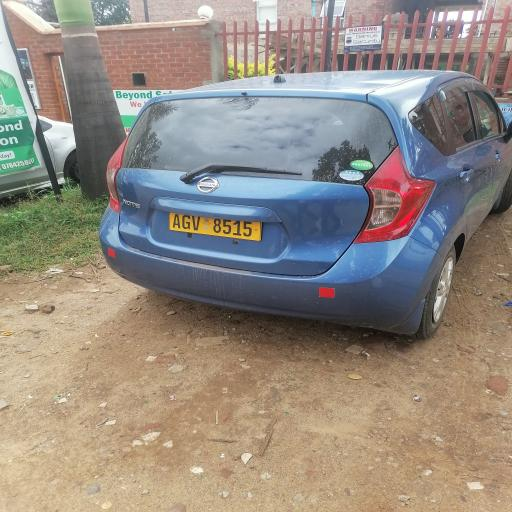number-plates: (157, 205, 263, 239)
